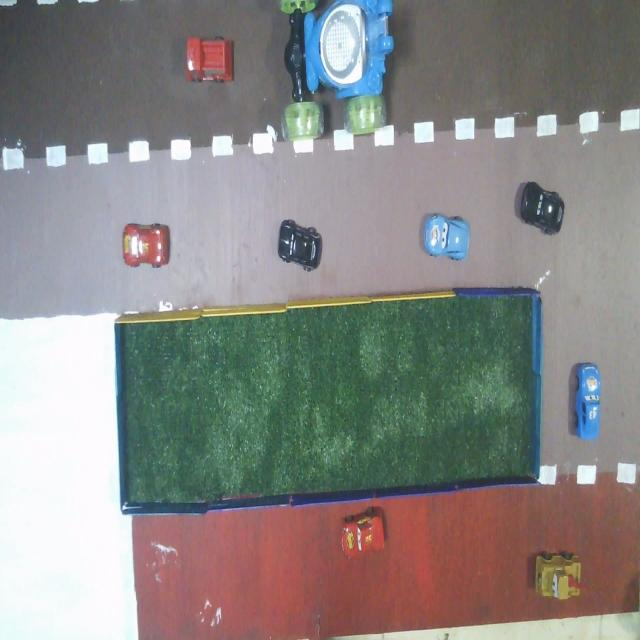small cars: (520, 182, 564, 234), (278, 220, 321, 271), (342, 507, 384, 557), (424, 214, 469, 260), (536, 553, 580, 600), (187, 37, 232, 82), (123, 224, 169, 267), (575, 363, 600, 439)
